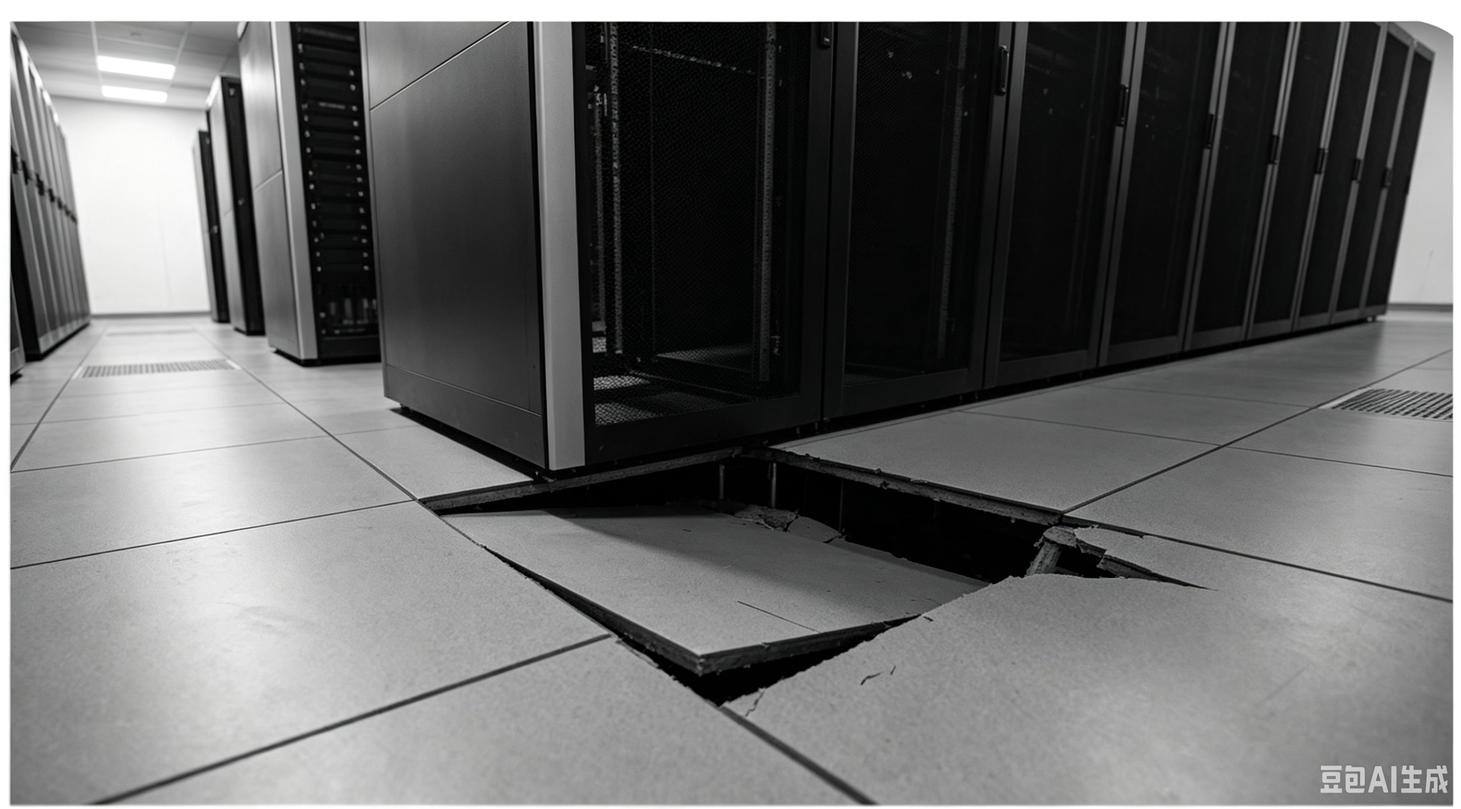floor_defect: (402, 369, 1210, 725)
